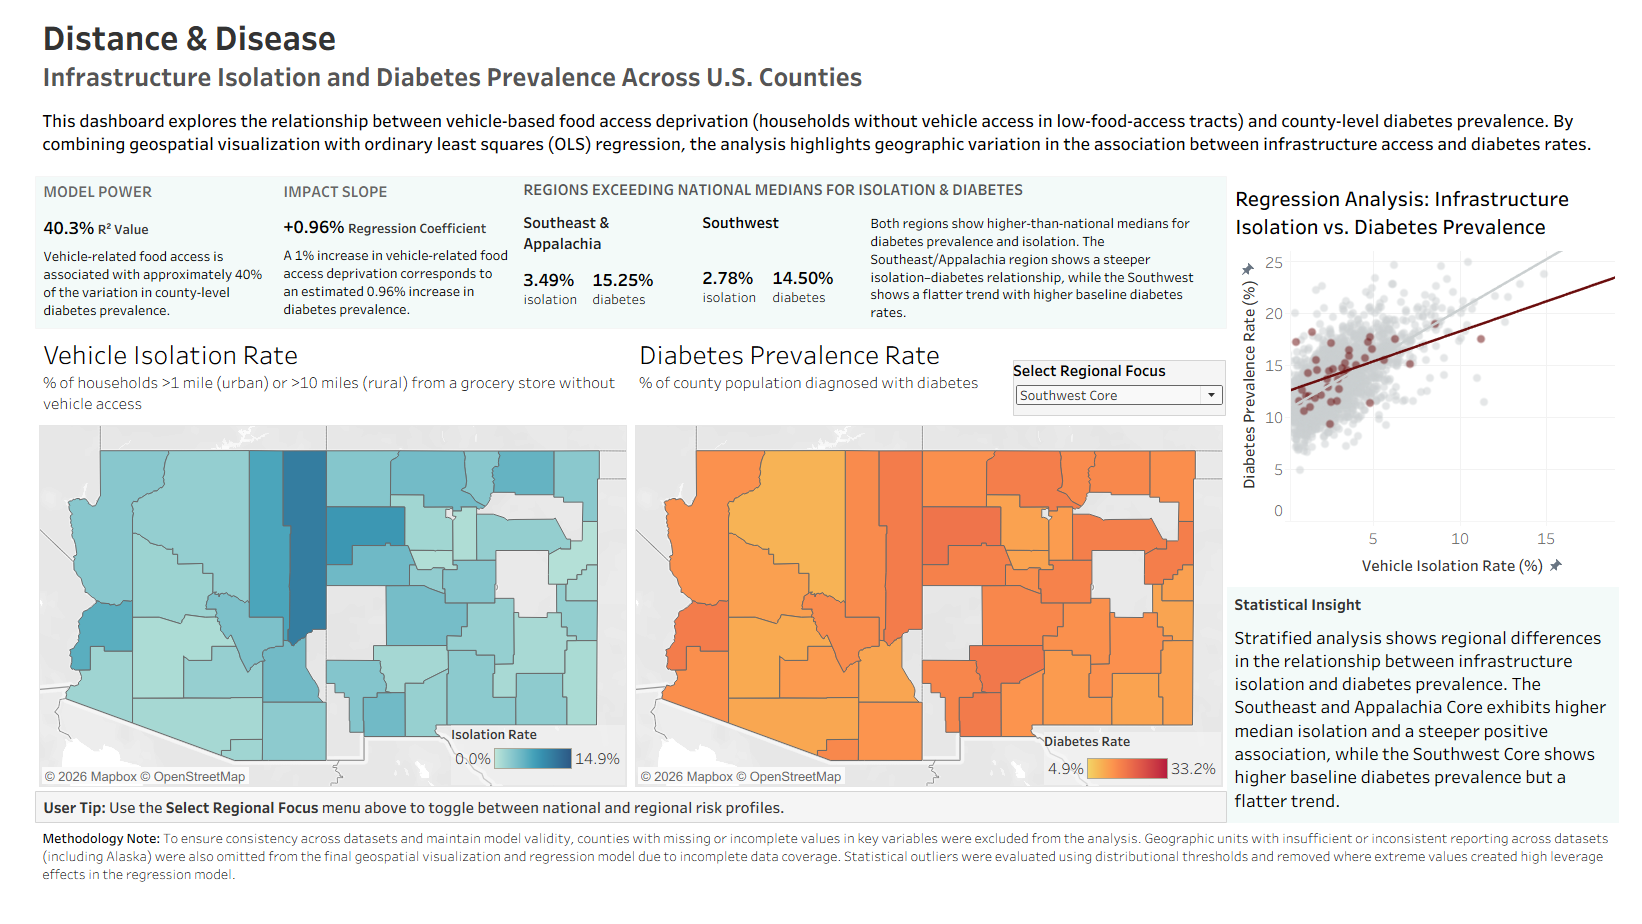

This screenshot's page, from the dashboard's own definition file:
{"tool":"tableau","page":{"name":"Distance & Disease Dashboard","canvas":[1600,900],"ordinal":0},"visuals":[{"type":"text","box":[8,8,1584,100]},{"type":"text","box":[8,108,1584,72]},{"type":"worksheet","title":"Regression Analysis","mark":"Circle","rows":["diabetes_rate"],"cols":["pct_no_car_low_access"],"box":[1200,180,392,411]},{"type":"text","box":[9,181,240,34.8]},{"type":"text","box":[249,181,240,33]},{"type":"text","box":[489,181,710,25]},{"type":"text","box":[489,211.9,146.4,55.2]},{"type":"text","box":[667.7,211.9,168.7,53.2]},{"type":"text","box":[836.4,211.9,362.6,120.1]},{"type":"text","box":[249,214,240,32]},{"type":"text","box":[9,215.8,240,31]},{"type":"text","box":[249,246,240,80]},{"type":"text","box":[9,246.8,240,85.2]},{"type":"text","box":[667.7,265.2,70.7,66.8]},{"type":"text","box":[738.4,265.2,98,66.8]},{"type":"text","box":[489,267.1,68.7,64.9]},{"type":"text","box":[557.7,267.1,77.7,64.9]},{"type":"worksheet","title":"Vehicle Isolation Map","mark":"Multipolygon","box":[8,333,596,462]},{"type":"worksheet","title":"Diabetes Prevalence Map","mark":"Multipolygon","box":[604,333,596,462]},{"type":"parameter","param":"[Parameters].[Parameter 1]","box":[986,364,213,56]},{"type":"text","box":[1200,591,392,32]},{"type":"text","box":[1200,623,392,204]},{"type":"legend","title":"Vehicle Isolation Map","param":"[federated.0u0hfb40xxzmzu1fmzhr60ztdpr7].[sum:Calculation_0587147910811648:qk]","box":[424,729,174,60]},{"type":"legend","title":"Diabetes Prevalence Map","param":"[federated.0u0hfb40xxzmzu1fmzhr60ztdpr7].[sum:Calculation_0587147912527873:qk]","box":[1017,736,177,53]},{"type":"text","box":[9,796,1190,30]},{"type":"text","box":[8,827,1584,65]}]}

Visuals, with their boxes in screenshot pixels (x1, y1, x2, y2), scaled from the page's 1600x900 canvas onto the 1642x924 screenshot:
text: 8:8:1634:111
text: 8:111:1634:185
"Regression Analysis" worksheet (Circle marks): 1232:185:1634:607
text: 9:186:256:222
text: 256:186:502:220
text: 502:186:1230:211
text: 502:218:652:274
text: 685:218:858:272
text: 858:218:1230:341
text: 256:220:502:253
text: 9:222:256:253
text: 256:253:502:335
text: 9:253:256:341
text: 685:272:758:341
text: 758:272:858:341
text: 502:274:572:341
text: 572:274:652:341
"Vehicle Isolation Map" worksheet (Multipolygon marks): 8:342:620:816
"Diabetes Prevalence Map" worksheet (Multipolygon marks): 620:342:1232:816
parameter: 1012:374:1230:431
text: 1232:607:1634:640
text: 1232:640:1634:849
"Vehicle Isolation Map" legend: 435:748:614:810
"Diabetes Prevalence Map" legend: 1044:756:1225:810
text: 9:817:1230:848
text: 8:849:1634:916
